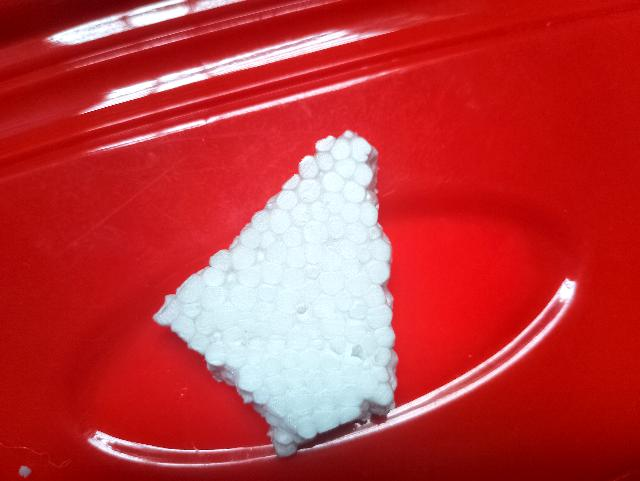cocksheet: (120, 113, 502, 481)
